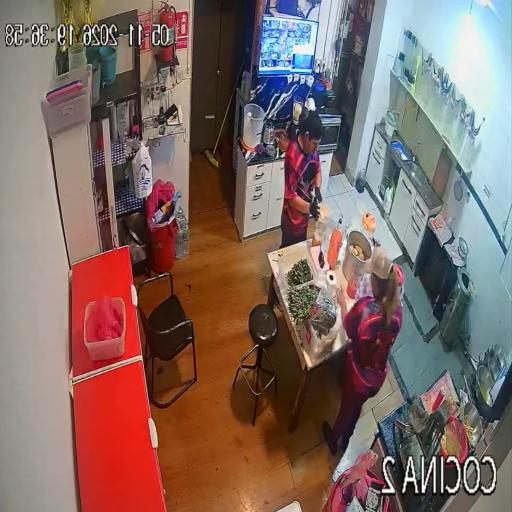Balde: (242, 103, 264, 149)
Envase Ketchup: (433, 391, 444, 411)
Jarra1: (394, 263, 404, 302)
Jarra2: (362, 211, 376, 238)
Licuadora: (289, 96, 303, 138)
Licuadora2: (262, 120, 274, 146)
Microondas: (319, 114, 342, 152)
Persona1: (281, 113, 322, 247)
Persona2: (325, 248, 402, 454)
Taper: (275, 242, 316, 296)
Taper2: (305, 287, 341, 360)
Taper4: (84, 301, 126, 360), (113, 298, 126, 320)
olla1: (343, 230, 371, 281)
